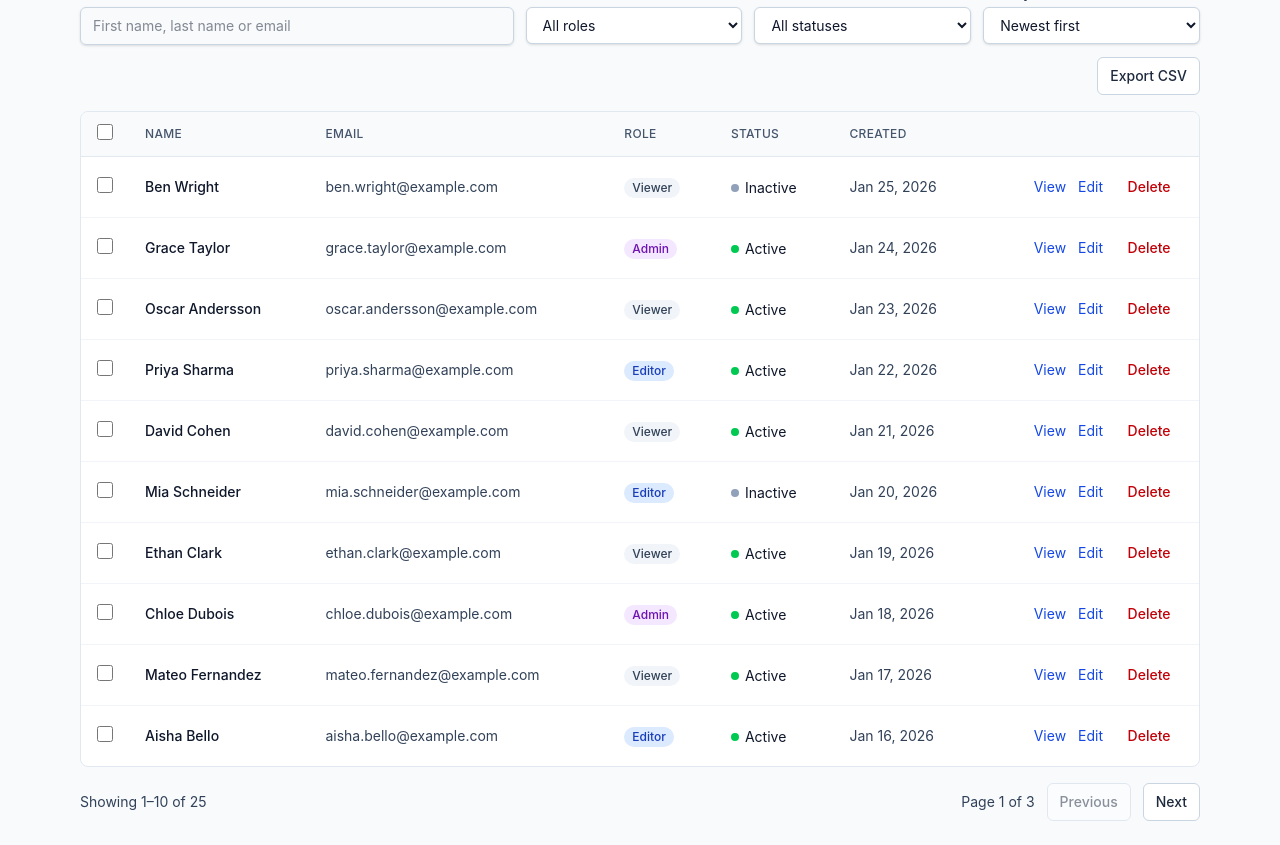
Test case: UsersListPage › pages forward and back, keeping the page in the URL
This screenshot has width=1280, height=845.
(page scrolled)
Expected: the button "Previous" is disabled, x1=1047 y1=783 x2=1131 y2=821
Step 1. Click the button "Next" → (1171, 802), box x1=1143 y1=783 x2=1200 y2=821
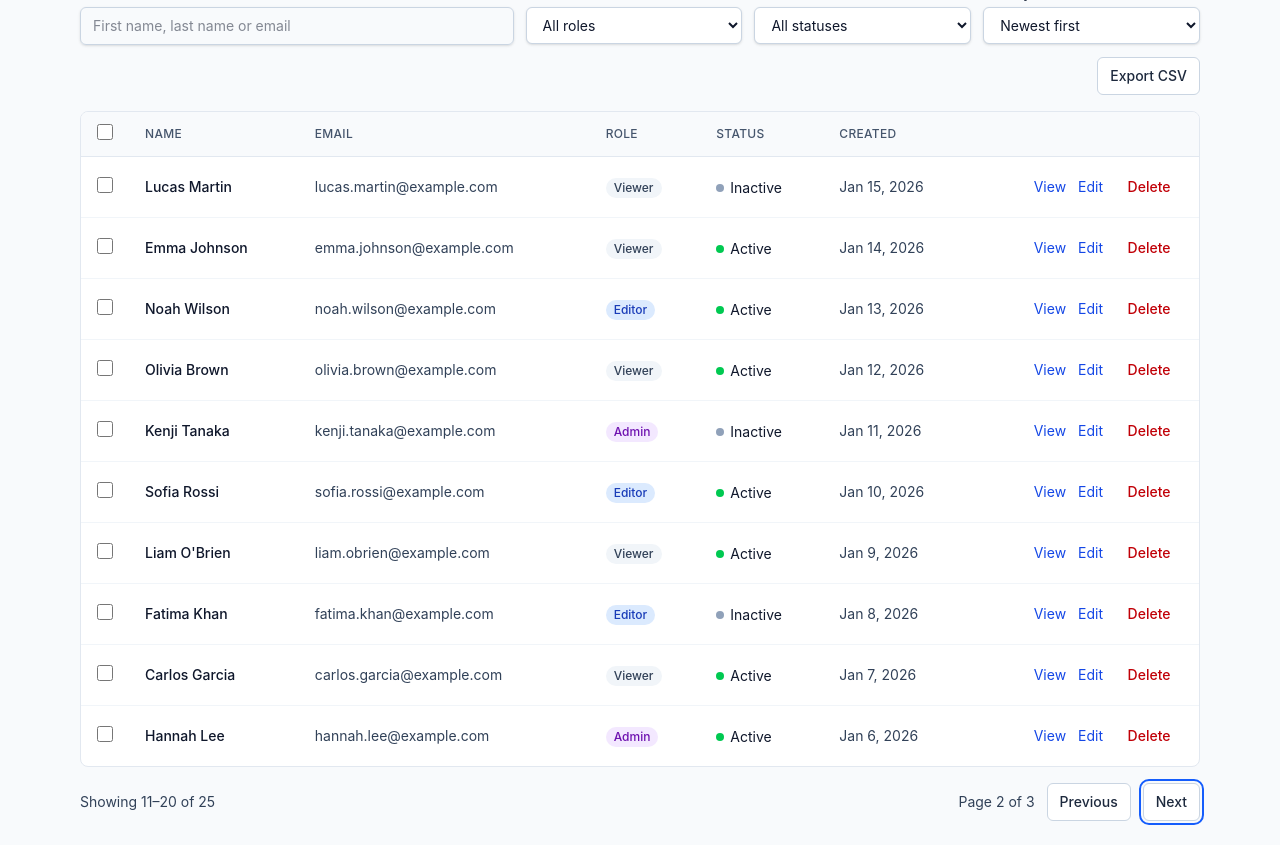
Now the text "Showing 11–20 of 25" is shown, box x1=80 y1=792 x2=215 y2=812
Step 2. Click the button "Next" → (1171, 802), box x1=1143 y1=783 x2=1200 y2=821
(page scrolled)
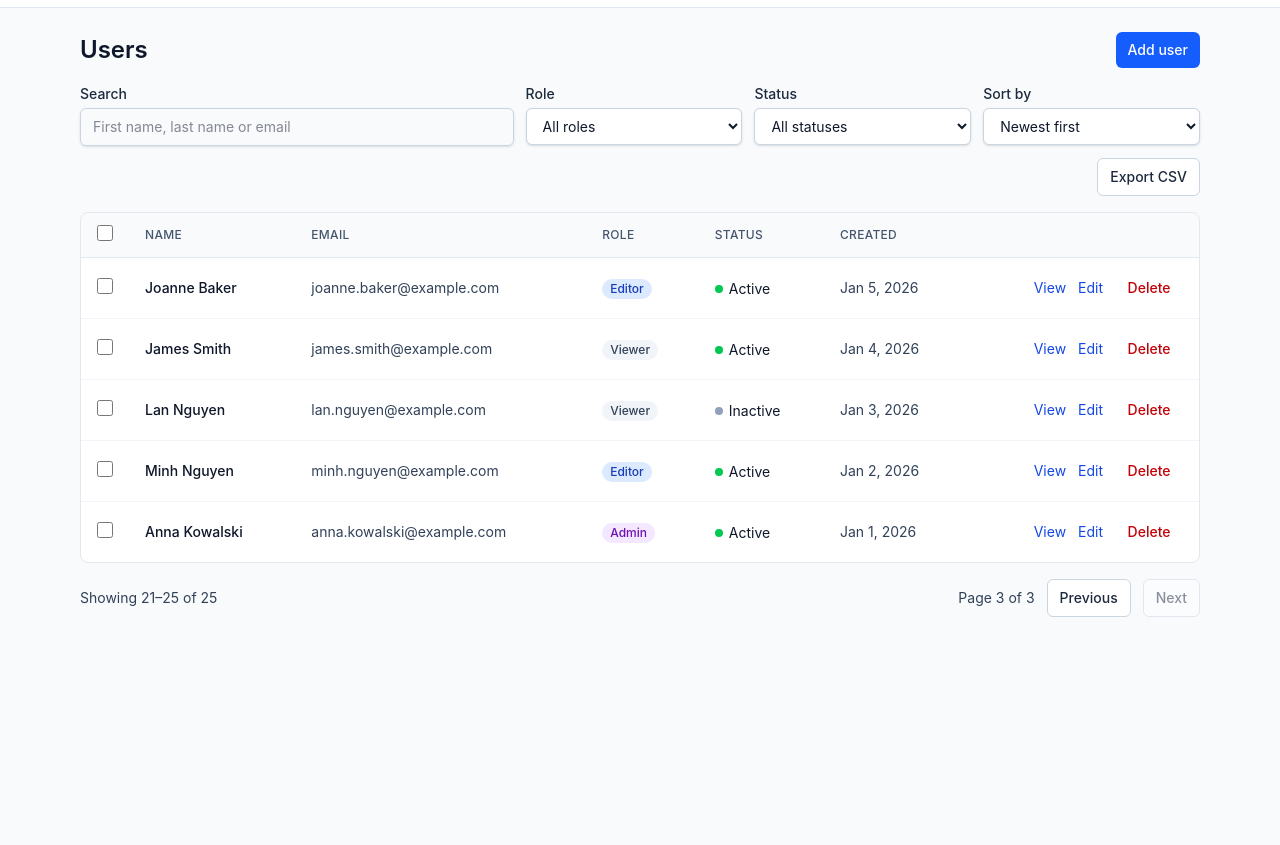
Now the text "Showing 21–25 of 25" is shown, box x1=80 y1=588 x2=217 y2=608
Now the button "Next" is disabled, box x1=1143 y1=579 x2=1200 y2=617
Step 3. Click the button "Previous" → (1089, 598), box x1=1047 y1=579 x2=1131 y2=617
(page scrolled)
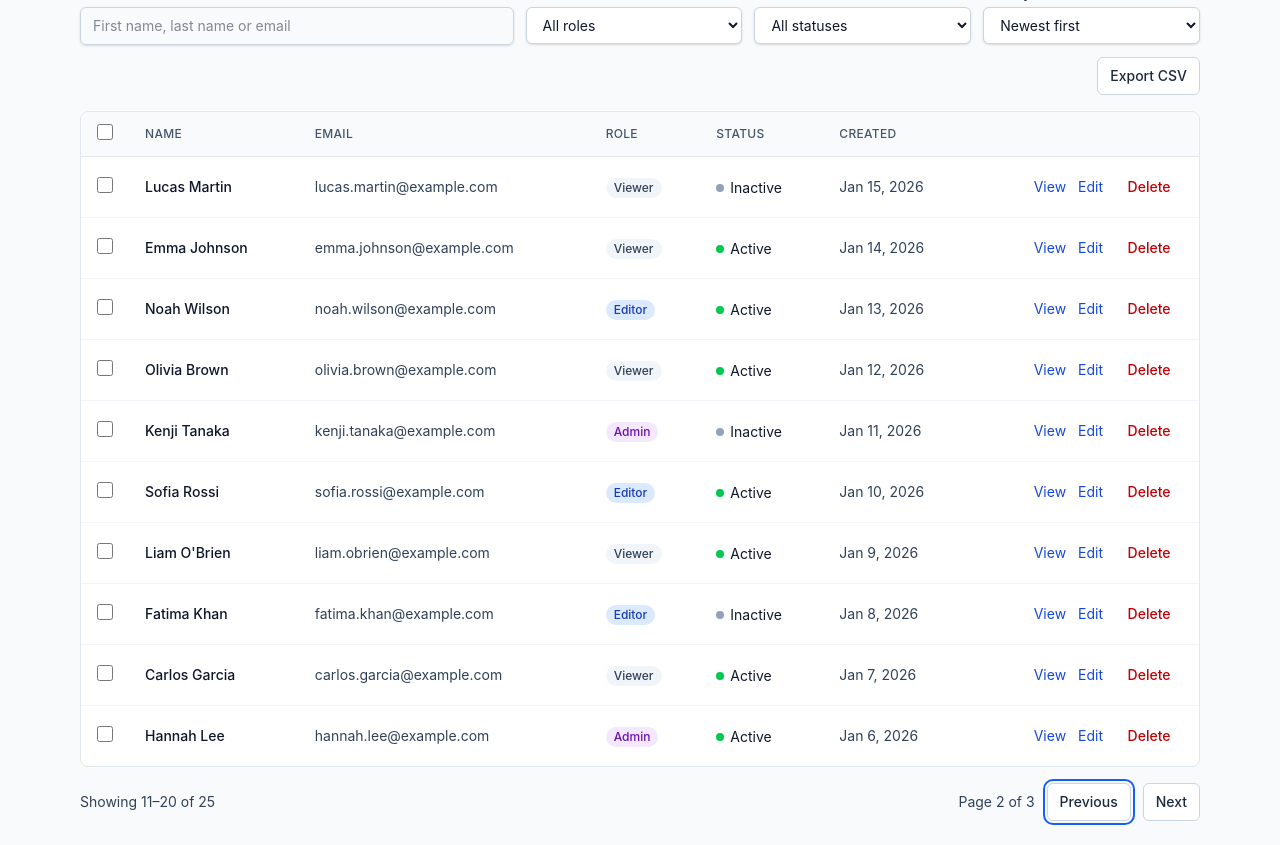
Step 4. Click the button "Previous" → (1089, 802), box x1=1047 y1=783 x2=1131 y2=821
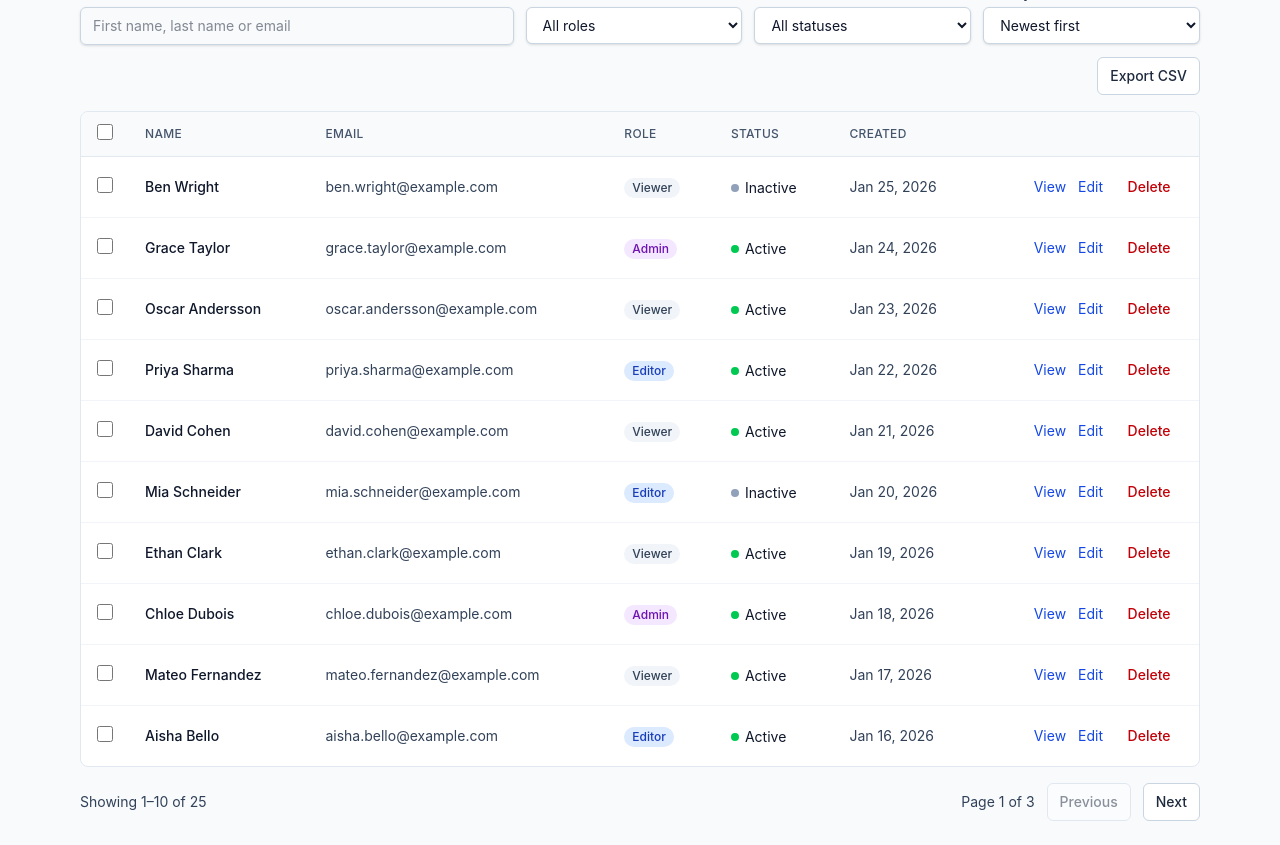
Now the text "Showing 1–10 of 25" is shown, box x1=80 y1=792 x2=207 y2=812
